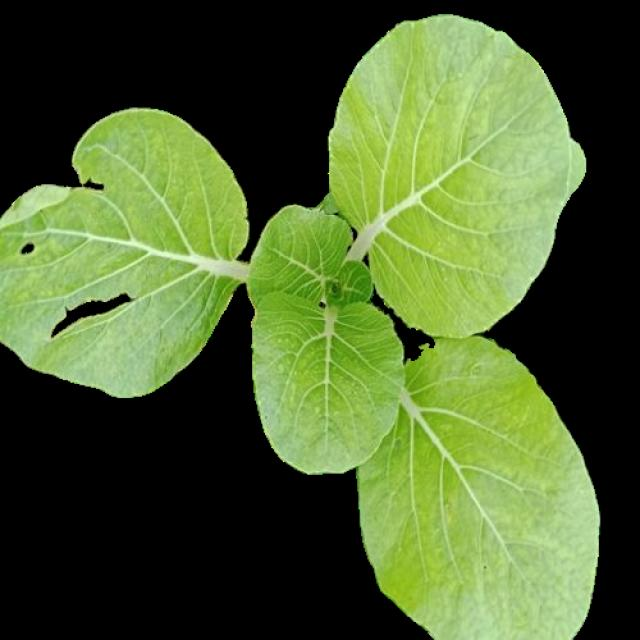not-mature: (1, 16, 597, 640)
unhealthy: (2, 108, 248, 394)
